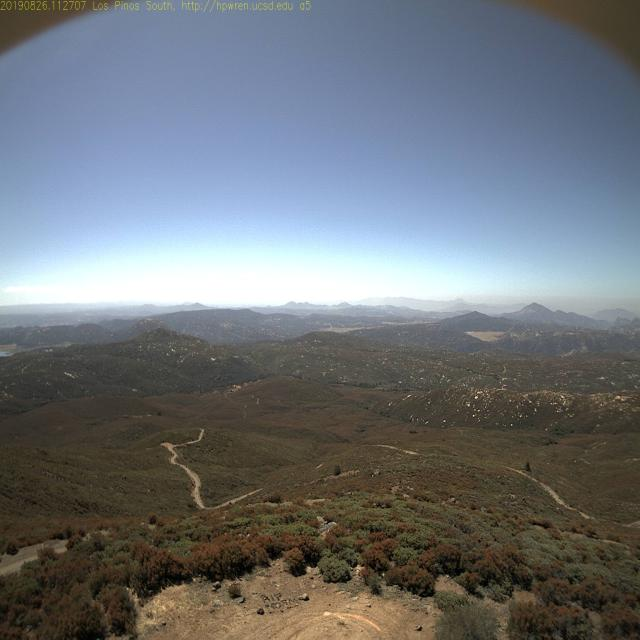smoke: (384, 303, 396, 317)
